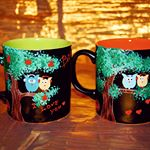cups: (72, 35, 150, 125), (1, 36, 71, 123)
